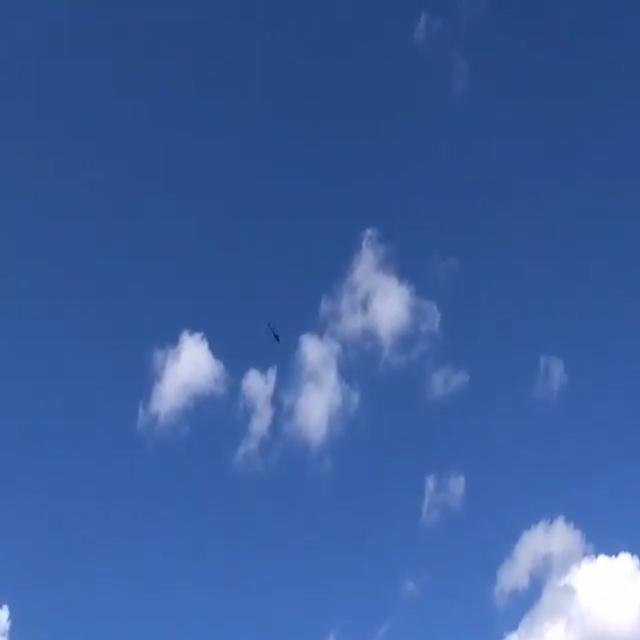Helicopter: (252, 313, 292, 352)
